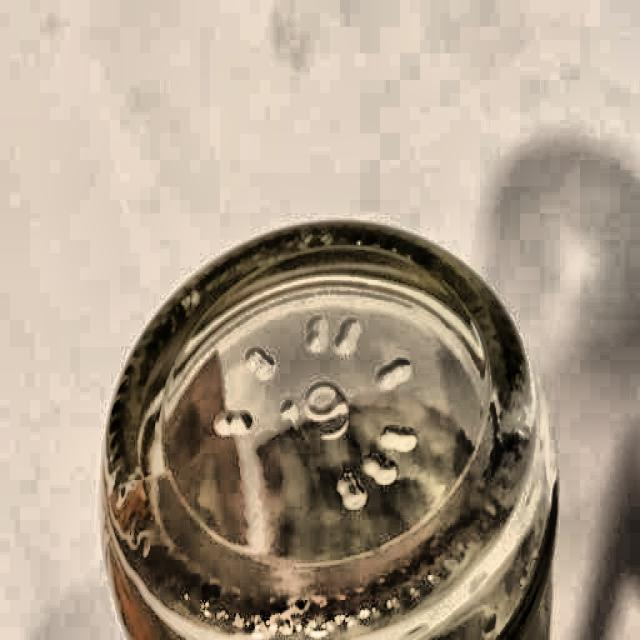glass: (96, 218, 564, 640)
